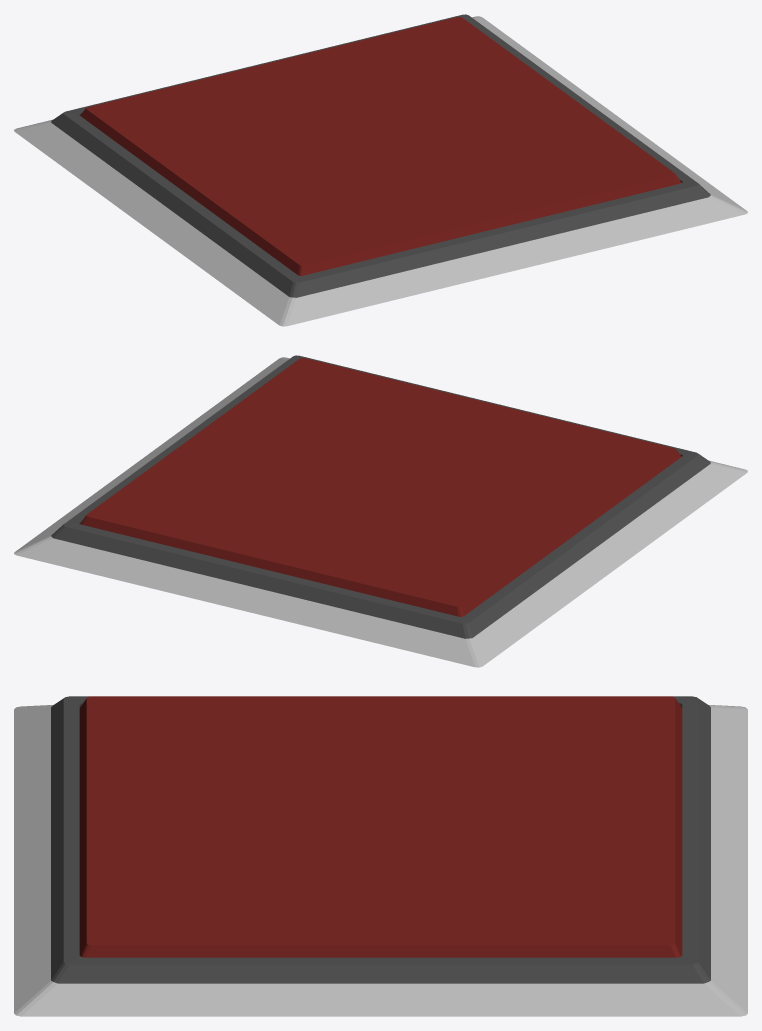
File: SquarePressurePlate.fbx
3 views of the same model, one above another, from view 1: azimuth 30°, elevation 25°; view 2: azimuth 150°, elevation 25°; view 3: azimuth 270°, elevation 25° (orthographic). The views are drawn at different scales.
Parts seen in each view (by area): view 1: Square_Pressure_Plate, Square_Pressure_Plate_Base; view 2: Square_Pressure_Plate, Square_Pressure_Plate_Base; view 3: Square_Pressure_Plate, Square_Pressure_Plate_Base.
Part boxes in pixels (x1,y1,x2,y2): Square_Pressure_Plate: (80,17,681,275); Square_Pressure_Plate_Base: (14,14,747,326); Square_Pressure_Plate: (80,358,681,616); Square_Pressure_Plate_Base: (14,355,747,667); Square_Pressure_Plate: (79,696,682,957); Square_Pressure_Plate_Base: (14,696,747,1016).
Size of the model in its own units: 202 by 12.39 by 202.
